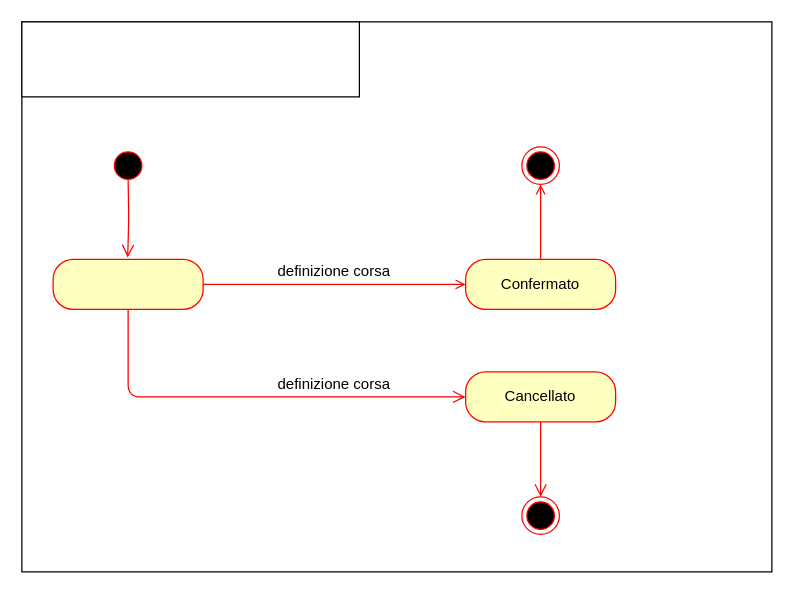
Image size: 794x594. Some labels were removed from this diagram. Each missing label, with the centre of its shape:
Corsa State Machine: (x=190, y=59)
Creato: (x=127, y=283)
